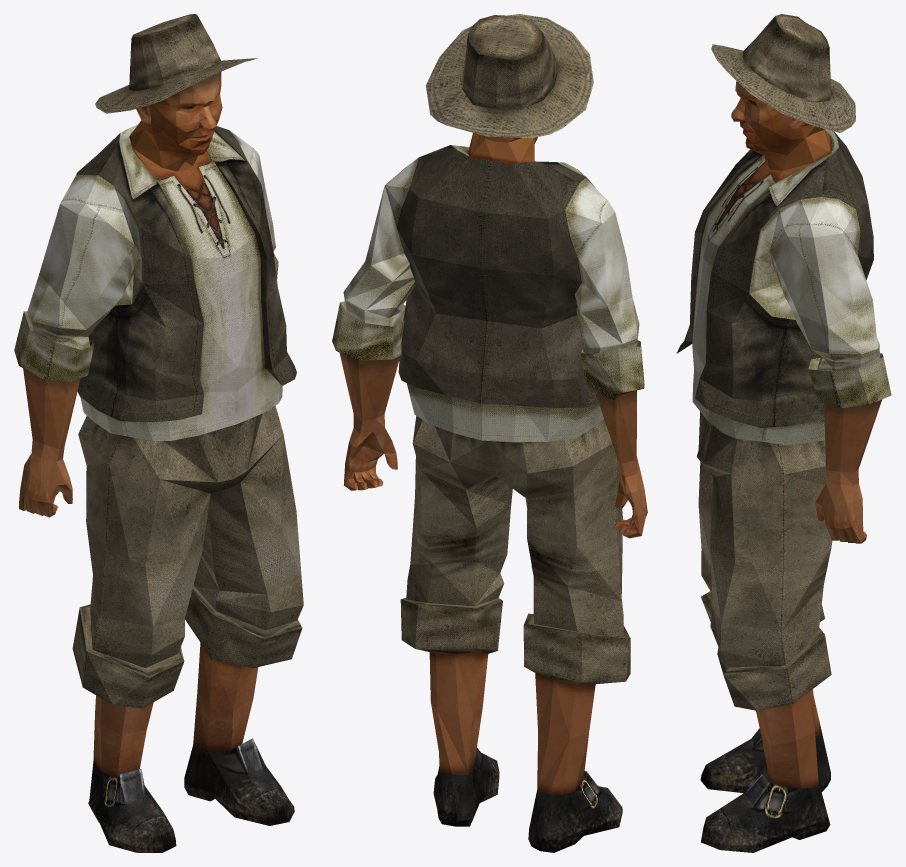
File: Servant 1.obj
3 renders of one model, left to right at view 1: azimuth 30°, elevation 25°; view 2: azimuth 150°, elevation 25°; view 3: azimuth 270°, elevation 25°, orthographic.
Visible parts, largest first — view 1: Servant_1_Servant_1_Servant_1; view 2: Servant_1_Servant_1_Servant_1; view 3: Servant_1_Servant_1_Servant_1.
Boxes of the visible parts, x1=… form: Servant_1_Servant_1_Servant_1: x1=14, y1=14, x2=303, y2=852; Servant_1_Servant_1_Servant_1: x1=332, y1=14, x2=647, y2=852; Servant_1_Servant_1_Servant_1: x1=676, y1=14, x2=891, y2=852.
Size of the model in its own units: 0.6666 by 1.81 by 0.4486.
Materials: 1 (1 with a texture image).
